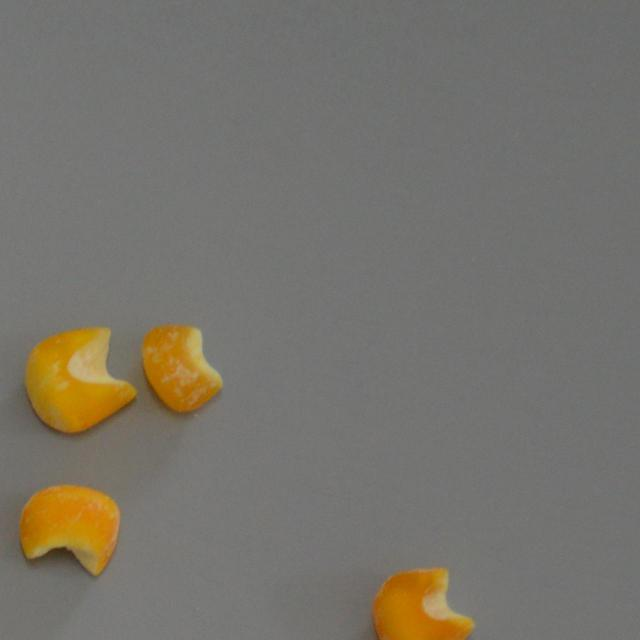no_canjicado: (23, 326, 136, 434)
pelicula: (18, 483, 120, 578), (370, 564, 474, 640), (141, 322, 222, 414)
